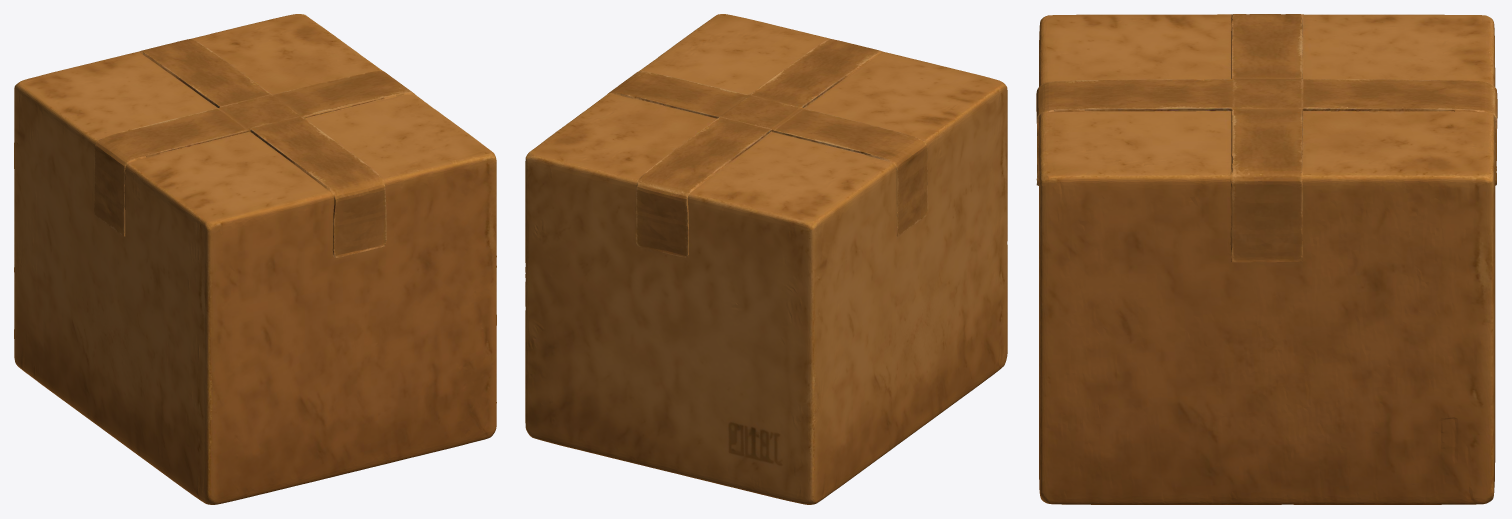
File: tripo_convert_92261d4c-5c57-4d18-9654-5c3c448bcc1d.obj
The picture shows the model from 3 angles, left to right: view 1: azimuth 30°, elevation 25°; view 2: azimuth 150°, elevation 25°; view 3: azimuth 270°, elevation 25°; orthographic projection. The views are drawn at different scales.
Parts seen in each view (by area): view 1: tripo_node_92261d4c-5c57-4d18-9654-5c3c448bcc1d; view 2: tripo_node_92261d4c-5c57-4d18-9654-5c3c448bcc1d; view 3: tripo_node_92261d4c-5c57-4d18-9654-5c3c448bcc1d.
Boxes of the visible parts, box(x1,y1,x2,y2) form: tripo_node_92261d4c-5c57-4d18-9654-5c3c448bcc1d: box(14, 14, 496, 504); tripo_node_92261d4c-5c57-4d18-9654-5c3c448bcc1d: box(525, 14, 1007, 504); tripo_node_92261d4c-5c57-4d18-9654-5c3c448bcc1d: box(1036, 14, 1497, 504).
Bounding box in the file's own units: 0.8523 × 0.8024 × 0.9999.
Materials: 1 (1 with a texture image).
